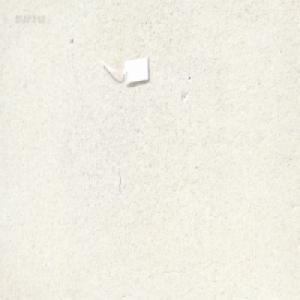LuggageTag: (99, 53, 151, 86)
